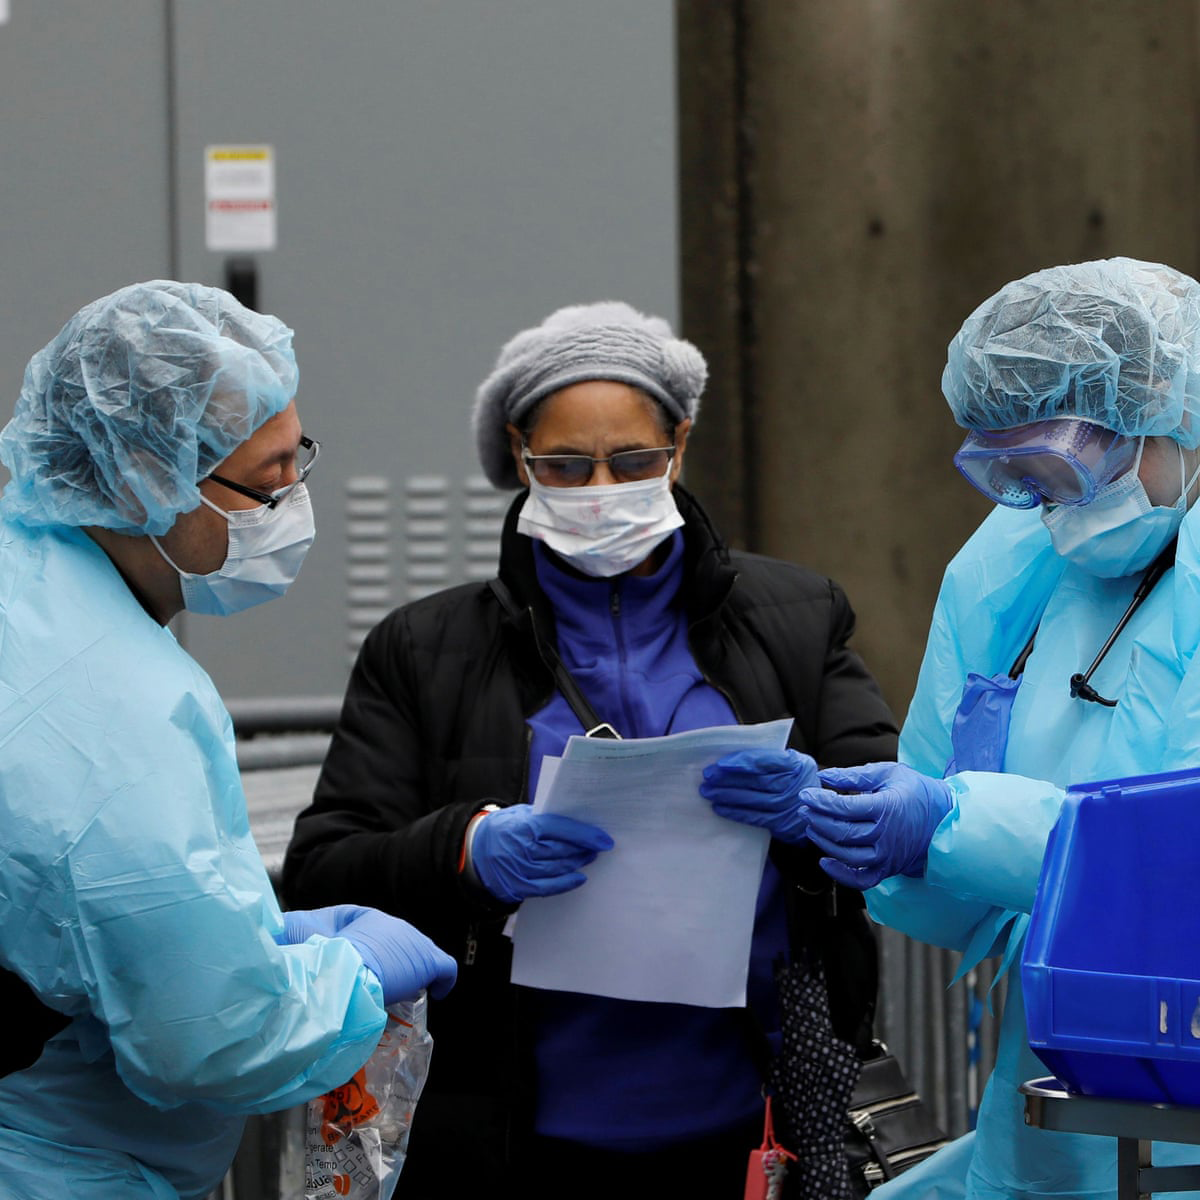Coverall: (2, 513, 395, 1191), (908, 516, 1190, 770)
Gloves: (799, 762, 948, 883), (464, 812, 611, 901), (345, 909, 460, 1004), (703, 743, 815, 833), (288, 906, 357, 930)
Goggles: (956, 425, 1135, 506)
with_mask: (515, 450, 685, 583), (180, 461, 322, 619), (1027, 447, 1168, 577)
